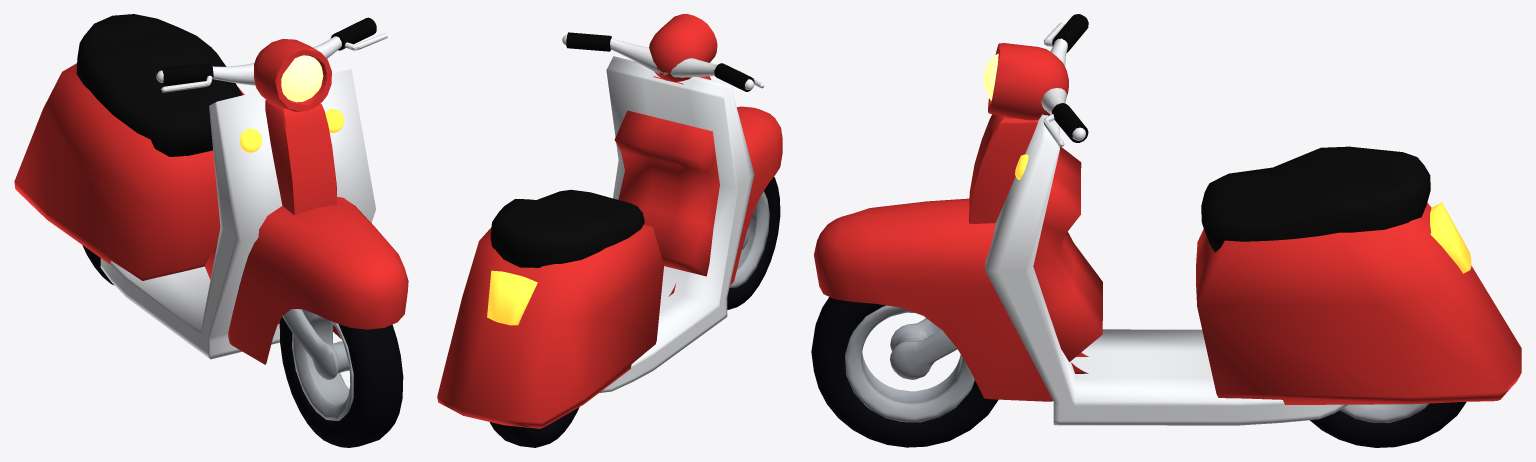
Rendered from Bike1.fbx.
3 views of the same model, side by side, from view 1: azimuth 30°, elevation 25°; view 2: azimuth 150°, elevation 25°; view 3: azimuth 270°, elevation 25° (orthographic). The views are drawn at different scales.
Parts seen in each view (by area): view 1: Body, Steering, Chair, FontTyre; view 2: Body, Steering, Chair, FontTyre, BackTyre; view 3: Body, Steering, Chair, FontTyre, BackTyre.
Part boxes in pixels (<box>): Body: <box>14,63,375,359</box>; Steering: <box>156,17,408,379</box>; Chair: <box>76,14,242,156</box>; FontTyre: <box>279,309,403,447</box>; Body: <box>437,56,754,428</box>; Steering: <box>562,14,782,296</box>; Chair: <box>490,189,644,267</box>; FontTyre: <box>727,177,780,309</box>; BackTyre: <box>489,407,579,447</box>; Body: <box>985,114,1521,425</box>; Steering: <box>814,14,1088,401</box>; Chair: <box>1201,146,1430,252</box>; FontTyre: <box>811,297,998,447</box>; BackTyre: <box>1310,402,1466,447</box>.
Size of the model in its own units: 116 by 177 by 288.
